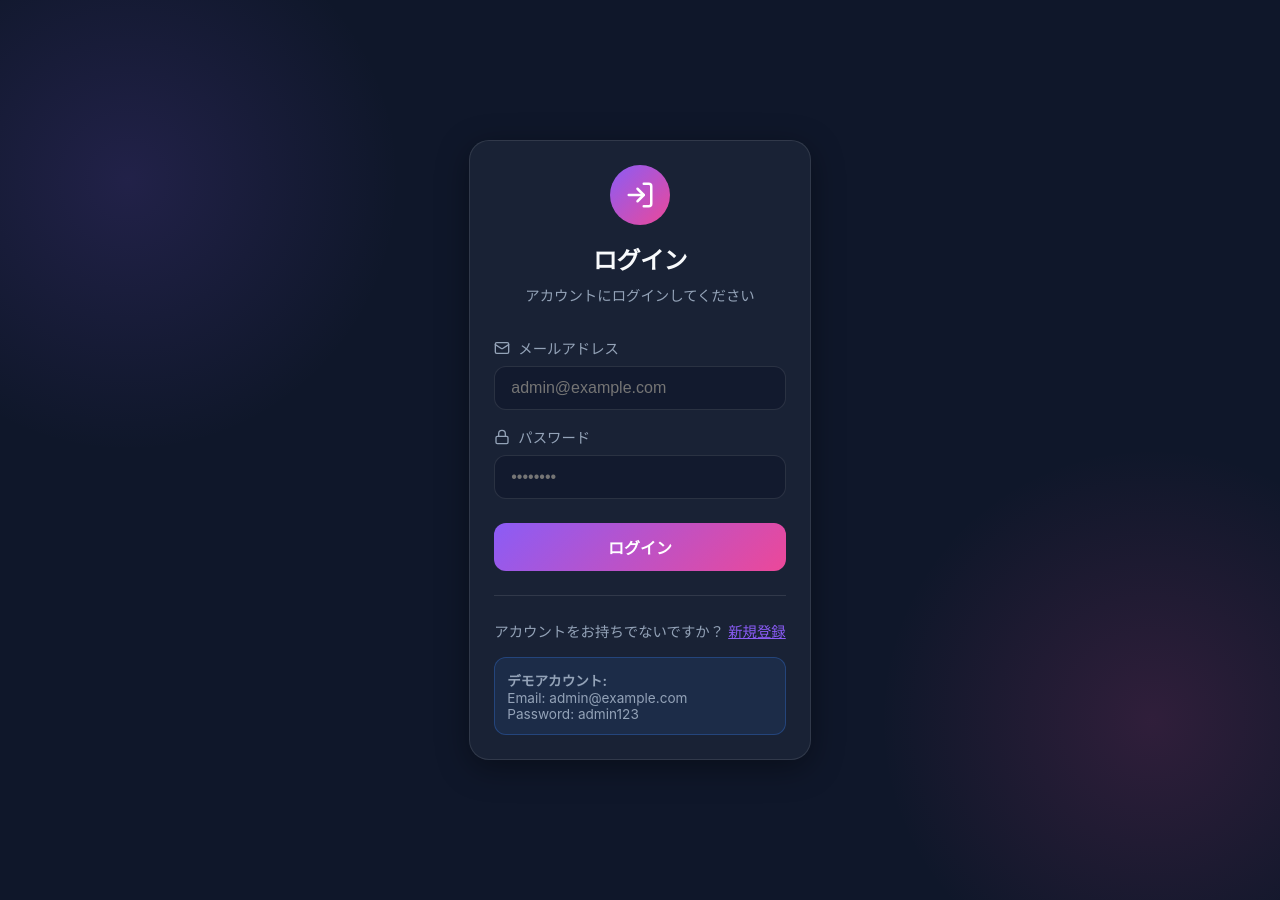
AuthPage Component › ログインフォームに切替できる
// まず登録フォームに切り替え
Click the button "新規登録" at (757, 630), box x1=728 y1=620 x2=786 y2=641
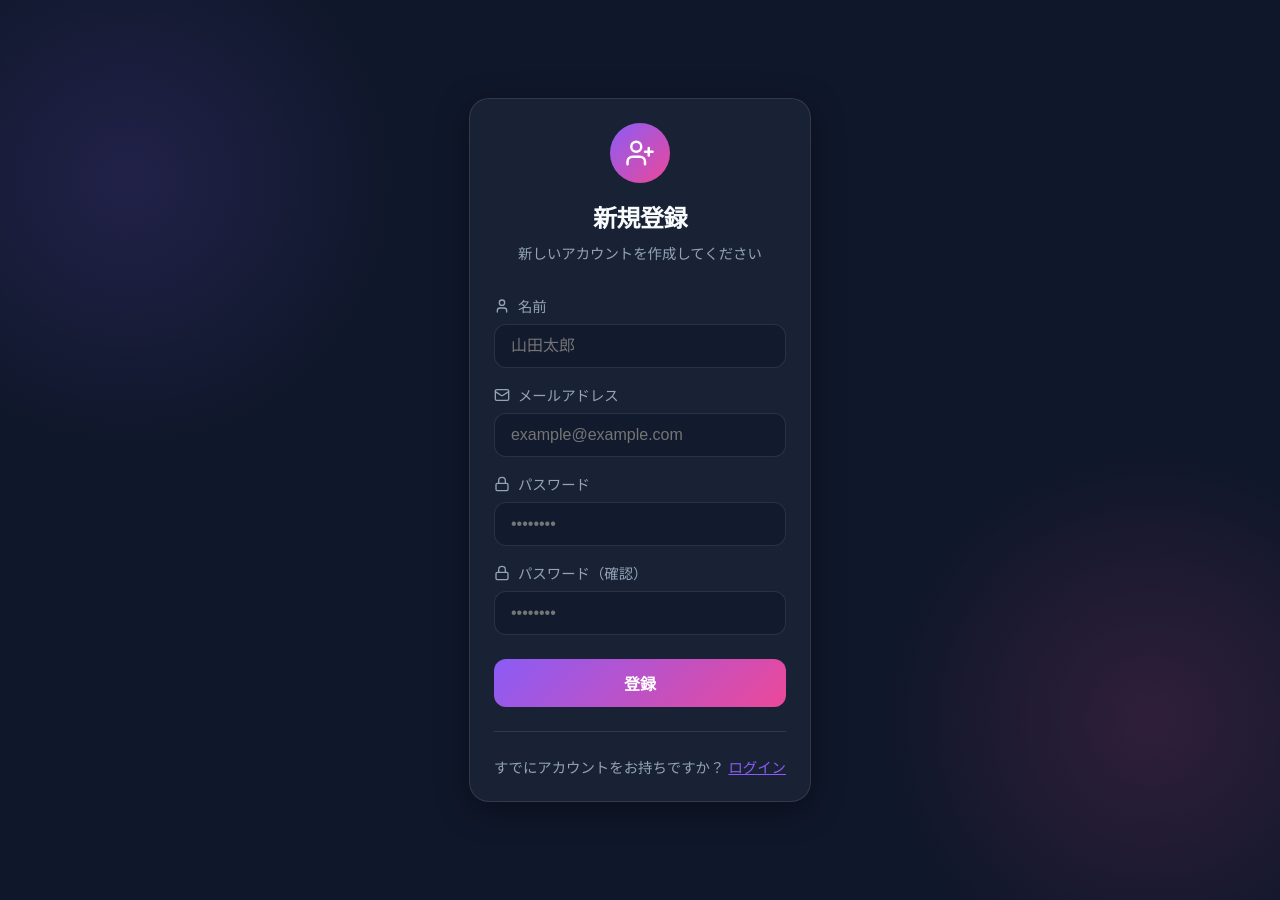
Expected: the heading "新規登録" is shown, x1=593 y1=204 x2=687 y2=233
// ログインリンクをクリック
Click the button "ログイン" at (757, 766), box x1=728 y1=756 x2=786 y2=777
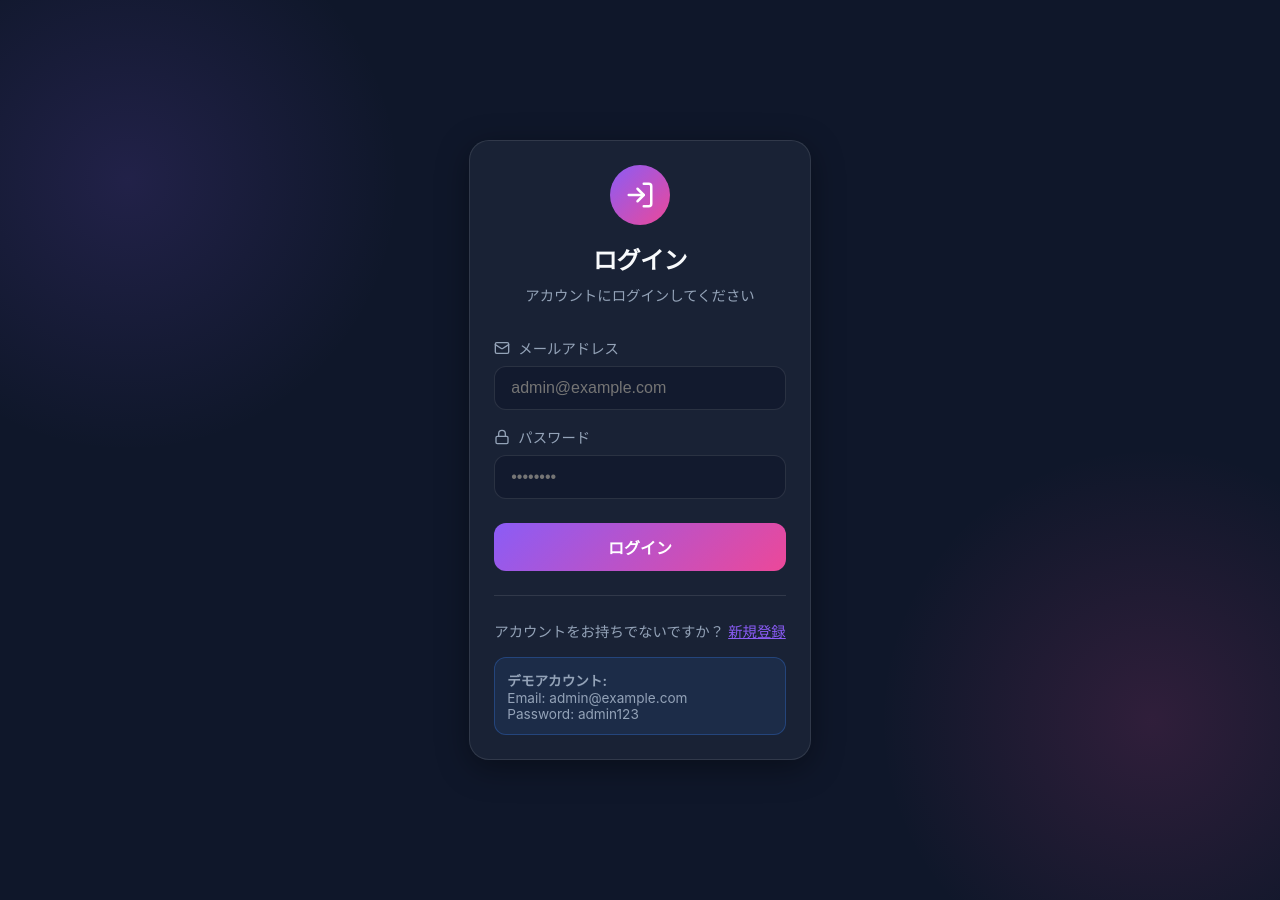
Expected: the heading "ログイン" is shown, x1=593 y1=246 x2=687 y2=275
